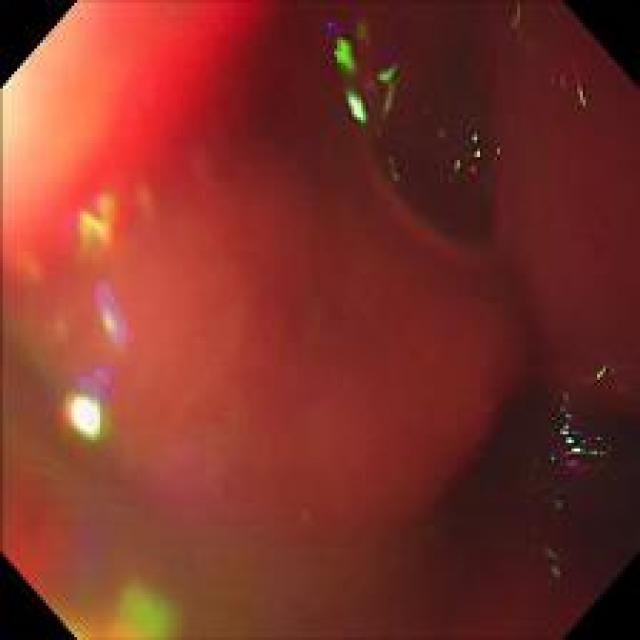color misalignment: (539, 368, 626, 522), (75, 205, 138, 340), (326, 32, 411, 130), (58, 369, 125, 448), (444, 116, 506, 180), (115, 566, 171, 630), (561, 49, 601, 110), (539, 535, 562, 582), (382, 149, 406, 185), (509, 0, 526, 35)
